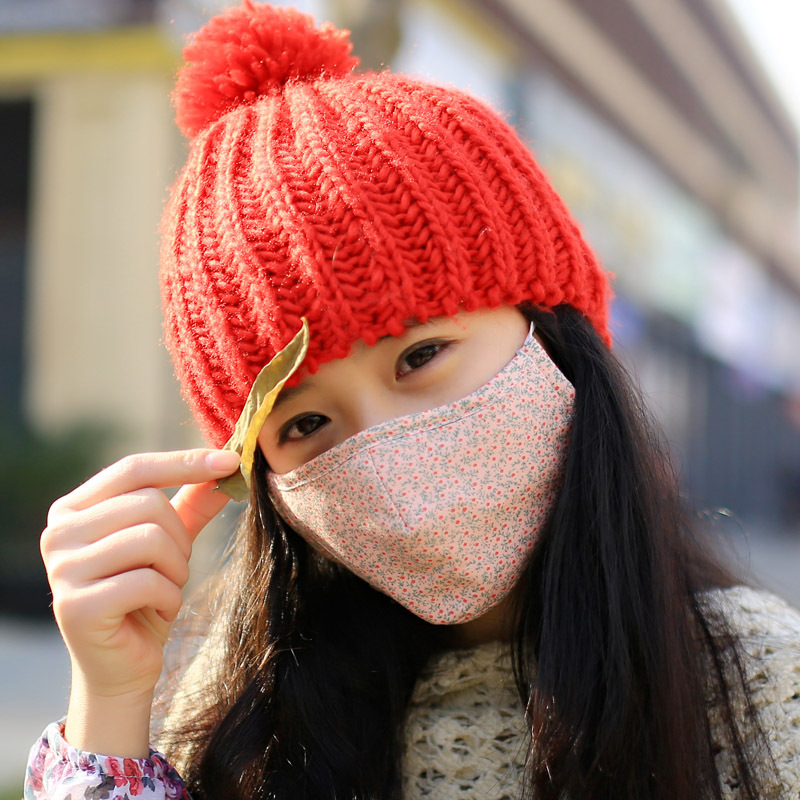face_mask: (254, 245, 554, 610)
